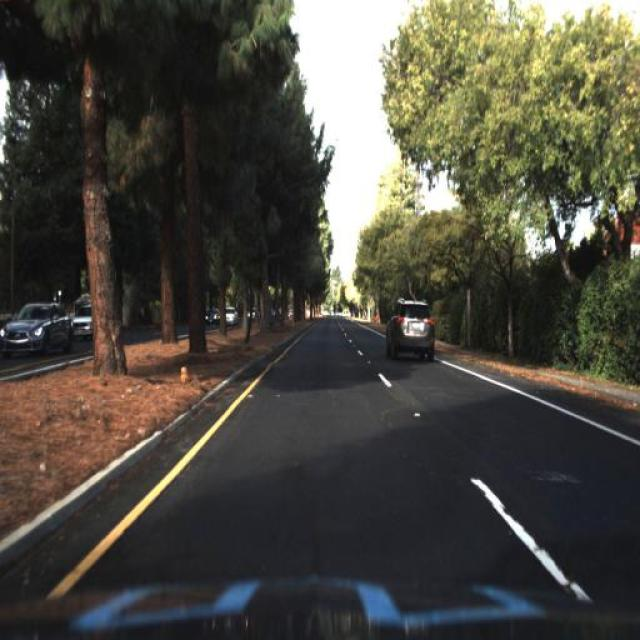car: (1, 302, 77, 359), (384, 292, 434, 353)
